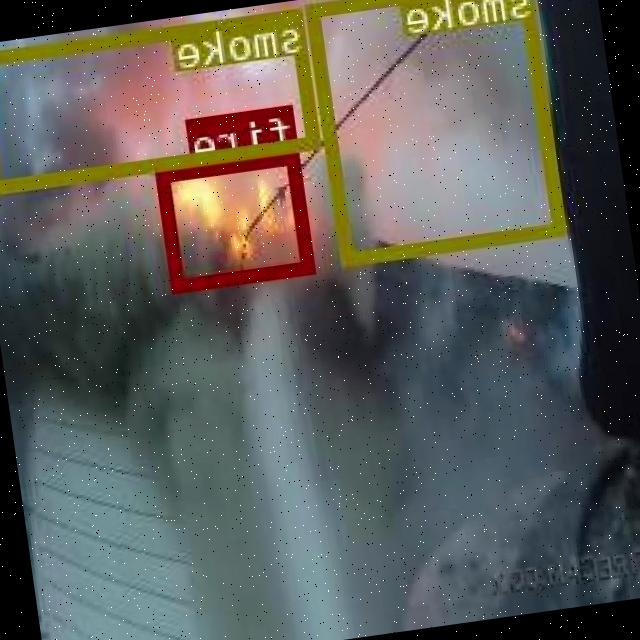fire: (158, 148, 318, 290)
smoke: (309, 0, 568, 263), (0, 7, 323, 191)
